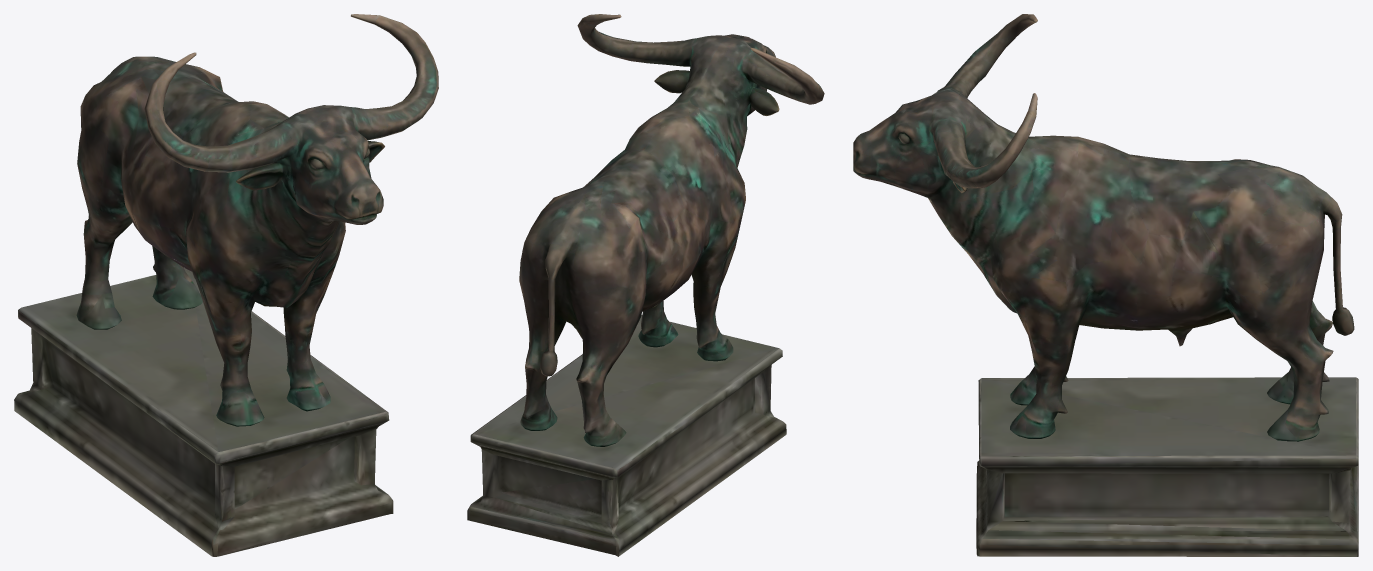
The model's file is carabao-statue.glb.
The picture shows the model from 3 angles, left to right: view 1: azimuth 30°, elevation 25°; view 2: azimuth 150°, elevation 25°; view 3: azimuth 270°, elevation 25°; orthographic projection. The views are drawn at different scales.
Parts seen in each view (by area): view 1: geometry_0; view 2: geometry_0; view 3: geometry_0.
Part boxes in pixels (x1=…): geometry_0: x1=14, y1=14, x2=438, y2=556; geometry_0: x1=467, y1=14, x2=824, y2=556; geometry_0: x1=853, y1=14, x2=1358, y2=556.
Bounding box in the file's own units: 0.6176 × 0.9995 × 1.
1 material, 1 textured.
